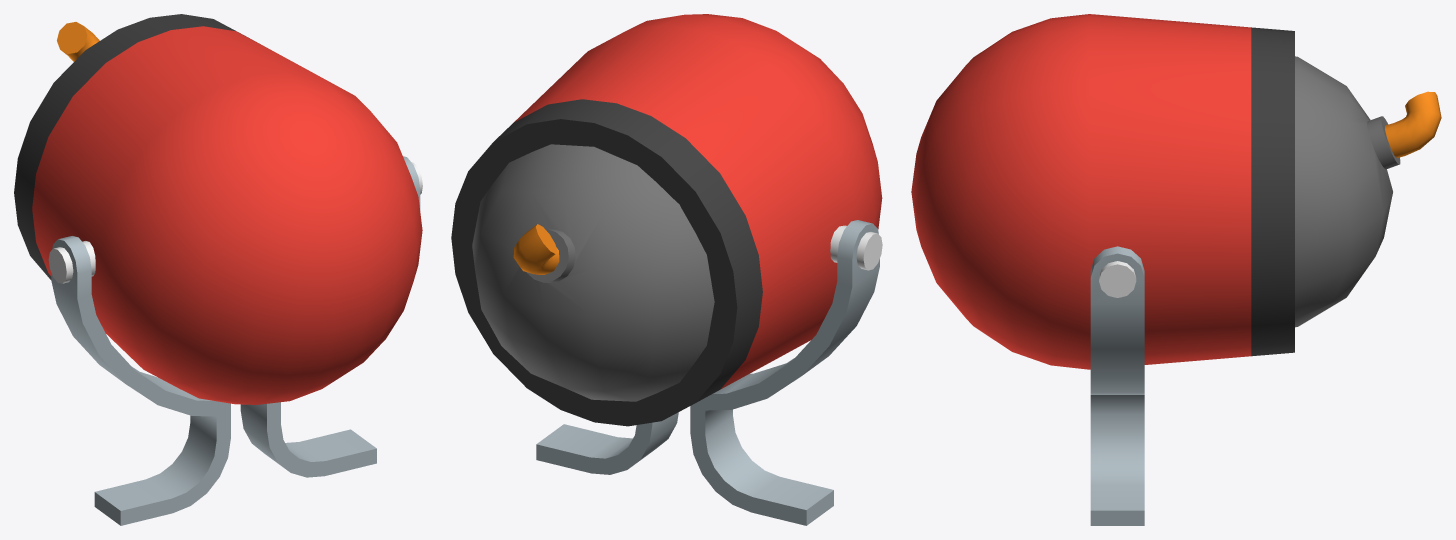
Rendered from Cannon.fbx.
The picture shows the model from 3 angles, left to right: view 1: azimuth 30°, elevation 25°; view 2: azimuth 150°, elevation 25°; view 3: azimuth 270°, elevation 25°; orthographic projection. The views are drawn at different scales.
Visible parts, largest first — view 1: Cannon, Tripod, Axis, Bomb; view 2: Cannon, Bomb, Tripod, Axis; view 3: Cannon, Bomb, Tripod, Axis.
Boxes of the visible parts, <box> form: Cannon: <box>14,14,422,404</box>; Tripod: <box>51,156,420,525</box>; Axis: <box>48,162,422,283</box>; Bomb: <box>57,22,99,61</box>; Cannon: <box>451,14,882,426</box>; Bomb: <box>472,144,714,401</box>; Tripod: <box>536,220,879,525</box>; Axis: <box>830,225,882,270</box>; Cannon: <box>911,14,1294,369</box>; Bomb: <box>1295,56,1441,327</box>; Tripod: <box>1090,246,1144,525</box>; Axis: <box>1099,261,1136,297</box>.
Size of the model in its own units: 1.16 by 1.45 by 1.3.
